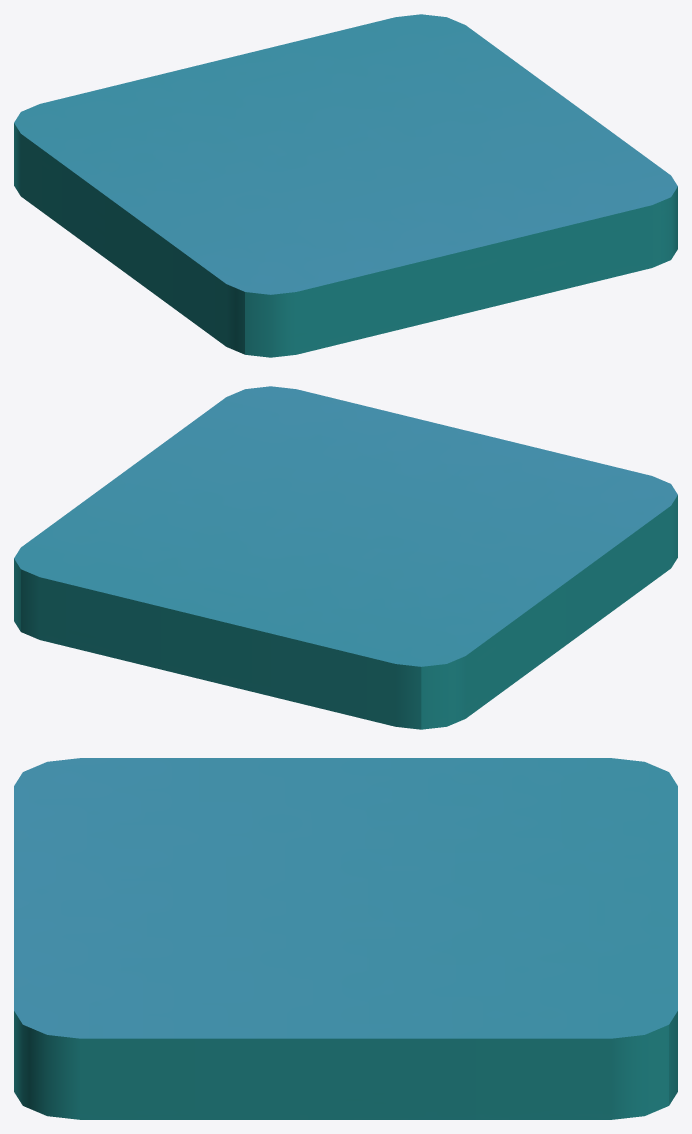
The model's file is SM_Tile.fbx.
The picture shows the model from 3 angles, top to bottom: view 1: azimuth 30°, elevation 25°; view 2: azimuth 150°, elevation 25°; view 3: azimuth 270°, elevation 25°; orthographic projection. The views are drawn at different scales.
Visible parts, largest first — view 1: polySurface33; view 2: polySurface33; view 3: polySurface33.
Part boxes in pixels (x1,y1,x2,y2): polySurface33: (14,14,677,357); polySurface33: (14,386,677,729); polySurface33: (14,758,677,1119).
Size of the model in its own units: 91.82 by 12.39 by 91.82.
